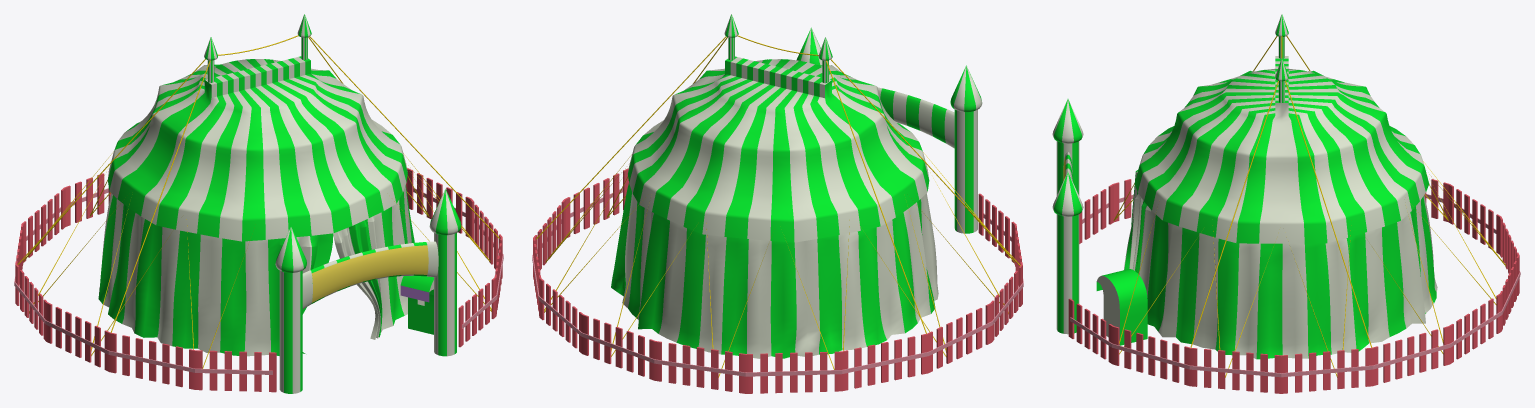
The model's file is Tent.fbx.
3 renders of one model, left to right at view 1: azimuth 30°, elevation 25°; view 2: azimuth 150°, elevation 25°; view 3: azimuth 270°, elevation 25°, orthographic. The views are drawn at different scales.
Parts seen in each view (by area): view 1: Tent; view 2: Tent; view 3: Tent.
Part boxes in pixels (x1=…): Tent: x1=14, y1=14, x2=503, y2=393; Tent: x1=532, y1=14, x2=1023, y2=393; Tent: x1=1052, y1=14, x2=1520, y2=393.
Size of the model in its own units: 8786 by 5191 by 8583.
